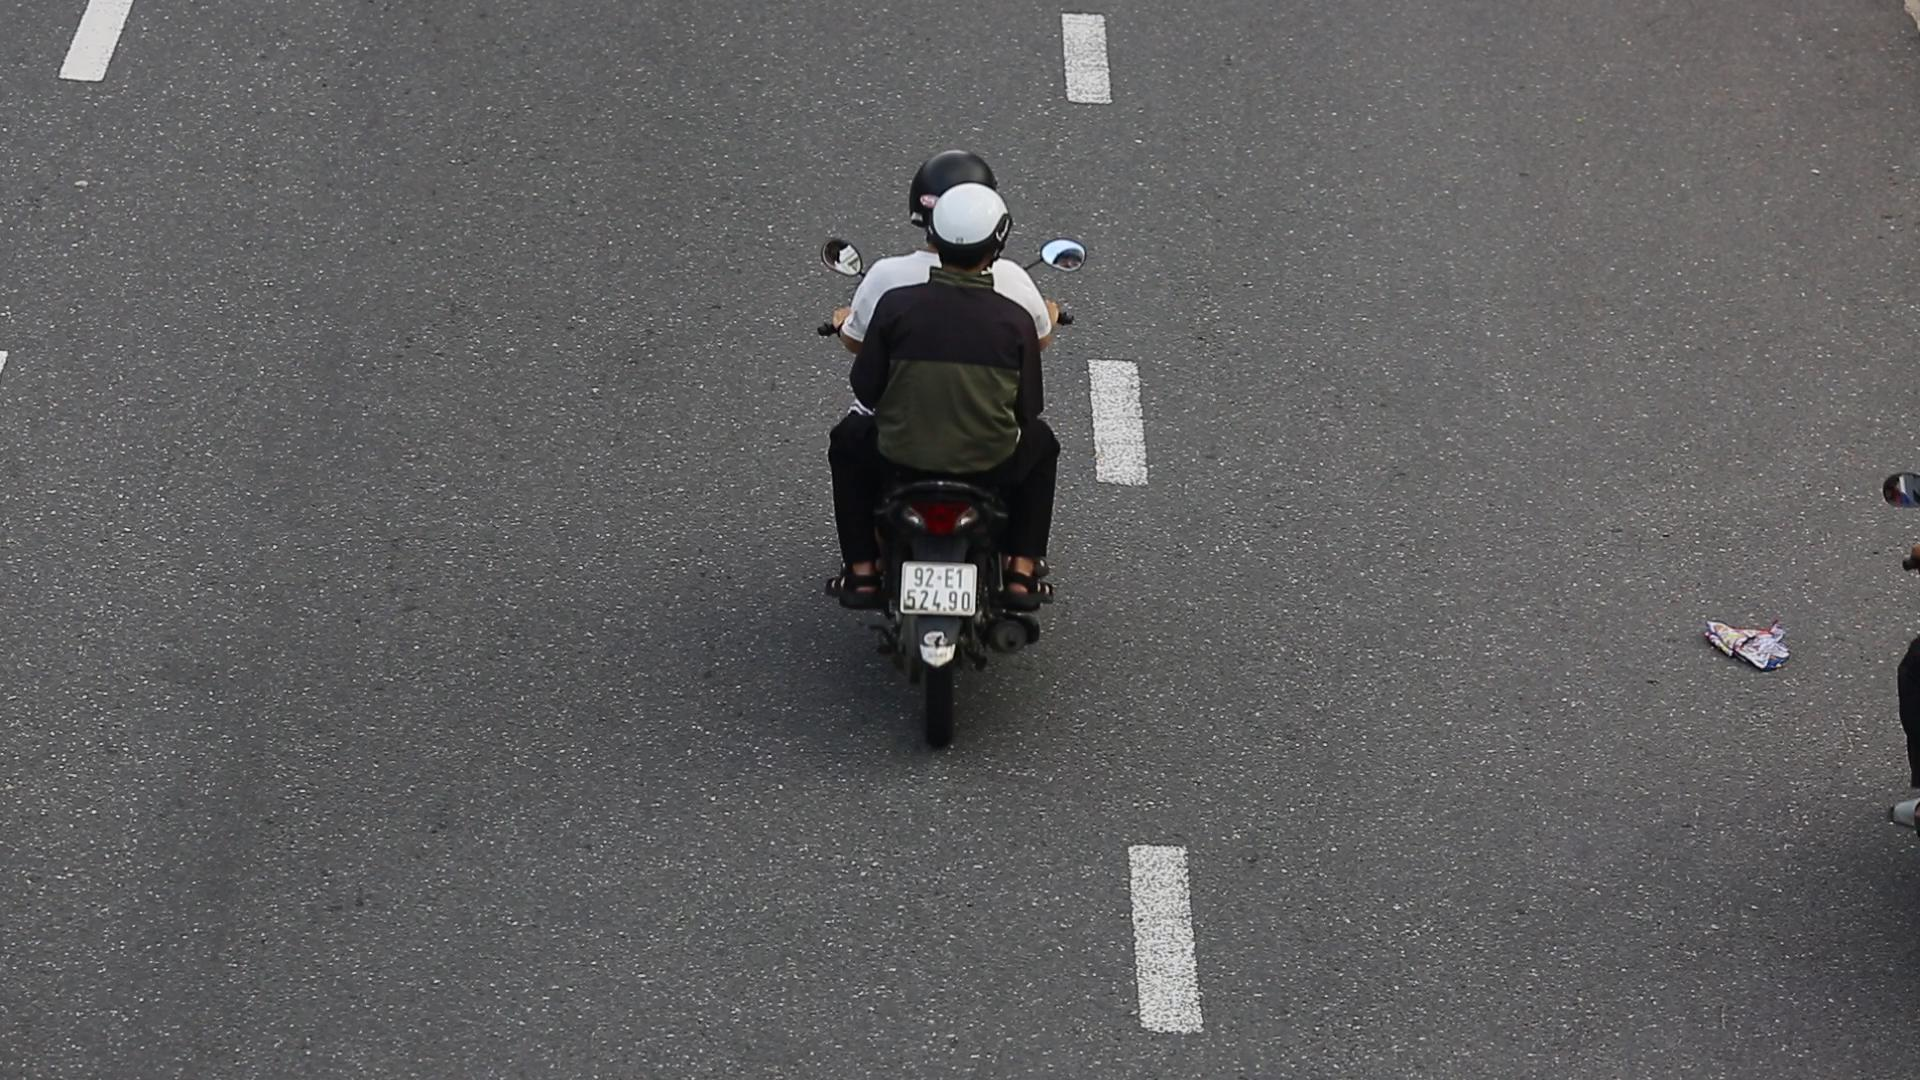motobike: (807, 131, 1121, 795)
